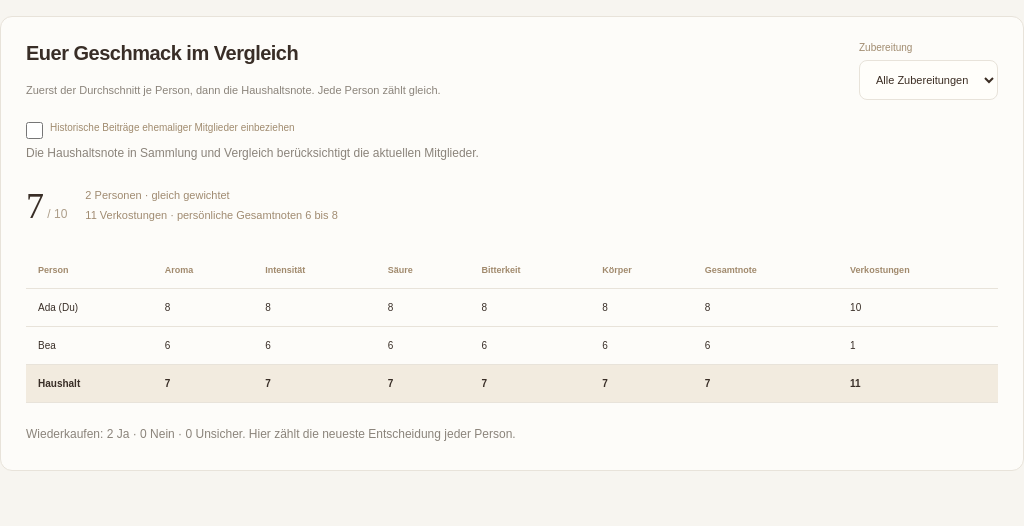
Test case: Haushalte bedienen und Bewertungen vergleichen › shows equal-person scores and makes former-member inclusion explicit
Expected: the element showing "7 / 10" is shown, x1=26 y1=185 x2=67 y2=227
Expected: the text "Cora (ehemalig)" is not shown
Click the checkbox labelled "Historische Beiträge ehemaliger Mitglieder einbeziehen" at (34, 130), box x1=26 y1=122 x2=43 y2=139
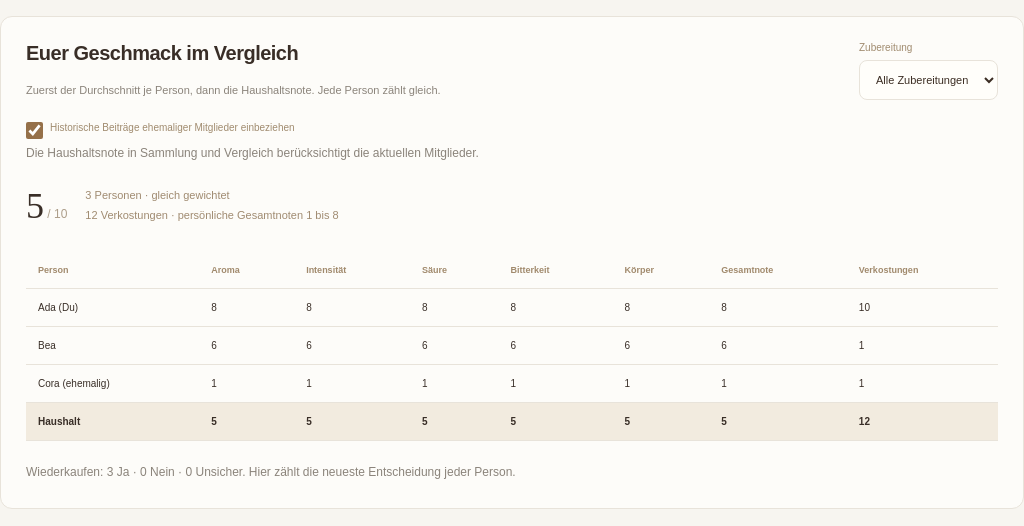
Now the column heading "Cora (ehemalig)" is shown, box x1=26 y1=364 x2=199 y2=402
Now the element showing "5 / 10" is shown, box x1=26 y1=185 x2=67 y2=227
